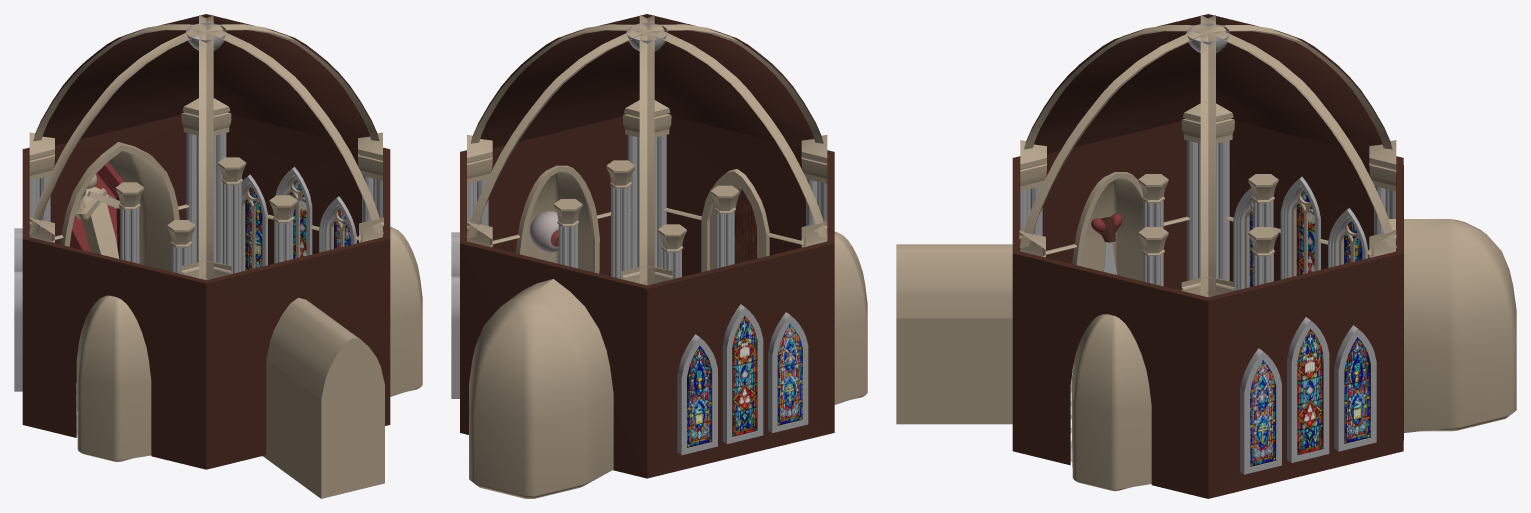
Rendered from Chapel.fbx.
3 renders of one model, left to right at view 1: azimuth 30°, elevation 25°; view 2: azimuth 150°, elevation 25°; view 3: azimuth 270°, elevation 25°, orthographic. The views are drawn at different scales.
Parts seen in each view (by area): view 1: polySurface47, Cathedral_Dome_Inside, polySurface72, polySurface49 (×2), polySurface48, Cathedral_Dome_Frame, polySurface52, BigPillar1_Capital (×5), BigPillar1_Body (×3), Man_Huge2, polySurface75 (×2), SmallPillar3_Body (+12 smaller); view 2: polySurface47, polySurface51, Cathedral_Dome_Inside, polySurface48, Cathedral_Dome_Frame, polySurface49, BigPillar1_Capital (×6), polySurface50, BigPillar1_Body (×3), Window_Glass_L2, polySurface95, Window_Glass_L1 (+19 smaller); view 3: polySurface47, Cathedral_Dome_Inside, polySurface51, polySurface72, polySurface48, Cathedral_Dome_Frame, polySurface49, polySurface50, BigPillar1_Body (×2), Window_Glass_L2 (×2), BigPillar1_Capital (×3), polySurface73 (×2) (+12 smaller).
Boxes of the visible parts, box(x1,y1,x2,y2) form: polySurface47: box(22, 147, 390, 469); Cathedral_Dome_Inside: box(34, 14, 377, 145); polySurface72: box(265, 297, 384, 498); polySurface49 (×2): box(76, 226, 422, 461); polySurface48: box(50, 115, 361, 264); Cathedral_Dome_Frame: box(29, 15, 383, 278); polySurface52: box(60, 142, 179, 271); BigPillar1_Capital (×5): box(29, 98, 382, 280); BigPillar1_Body (×3): box(29, 133, 382, 263); Man_Huge2: box(75, 174, 120, 258); polySurface75 (×2): box(14, 196, 356, 391); SmallPillar3_Body: box(222, 182, 241, 273); polySurface47: box(460, 150, 834, 478); polySurface51: box(469, 279, 613, 498); Cathedral_Dome_Inside: box(472, 14, 821, 147); polySurface48: box(488, 116, 805, 276); Cathedral_Dome_Frame: box(466, 15, 827, 283); polySurface49: box(834, 231, 867, 404); BigPillar1_Capital (×6): box(467, 100, 827, 285); polySurface50: box(515, 165, 599, 273); BigPillar1_Body (×3): box(467, 135, 827, 268); Window_Glass_L2: box(732, 316, 757, 436); polySurface95: box(701, 169, 769, 271); Window_Glass_L1: box(777, 323, 802, 425); polySurface47: box(1012, 156, 1403, 498); Cathedral_Dome_Inside: box(1025, 14, 1390, 153); polySurface51: box(1404, 219, 1516, 432); polySurface72: box(896, 244, 1012, 424); polySurface48: box(1042, 121, 1396, 290); Cathedral_Dome_Frame: box(1019, 15, 1396, 295); polySurface49: box(1071, 314, 1151, 491); polySurface50: box(1072, 172, 1143, 281); BigPillar1_Body (×2): box(1020, 140, 1229, 280); Window_Glass_L2 (×2): box(1296, 191, 1323, 455); BigPillar1_Capital (×3): box(1020, 103, 1396, 191); polySurface73 (×2): box(1280, 176, 1323, 462).
Size of the model in its own units: 20.68 by 19.17 by 28.42.
